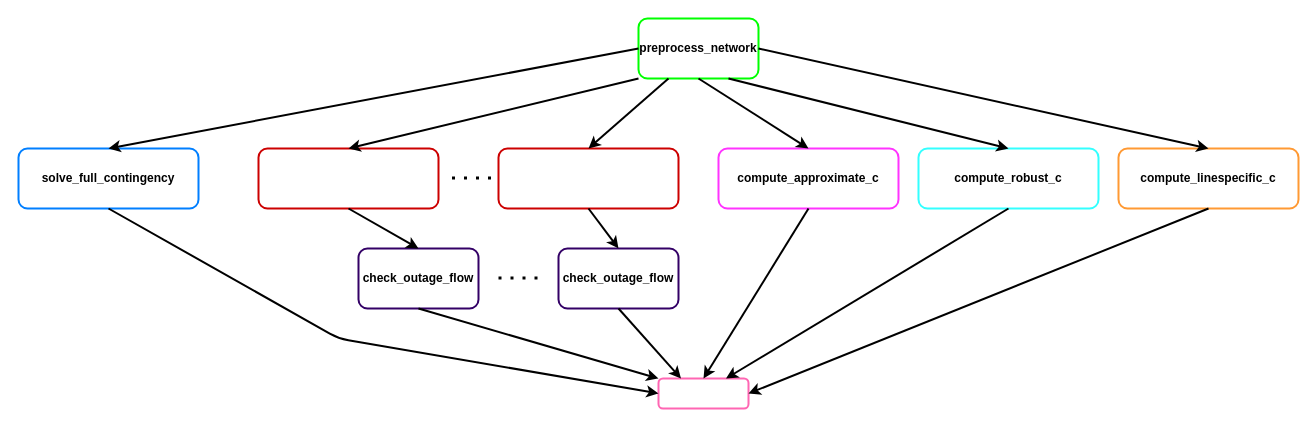
The diagram is 1316 pixels wide and 426 high, and some of its shapes have lost their labels. The shapes that lost their labels are listed below. From the top down, each one's centre as x and y in pixels, then its label:
At point (348, 178): "solve_heuristic_contingency s_max_pu: 0".
At point (588, 178): "solve_heuristic_contingency s_max_pu: 1".
At point (703, 393): "all".
